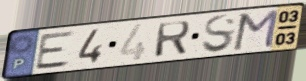4: (117, 23, 148, 62), (76, 27, 105, 66)
E: (33, 29, 78, 72)
M: (231, 8, 281, 52)
R: (153, 19, 193, 59)
S: (200, 13, 238, 55)
